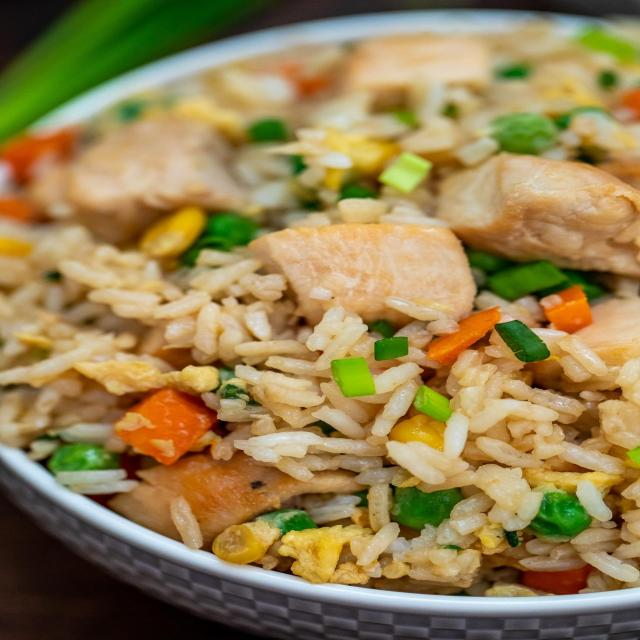Nasi Goreng: (0, 39, 633, 578)
